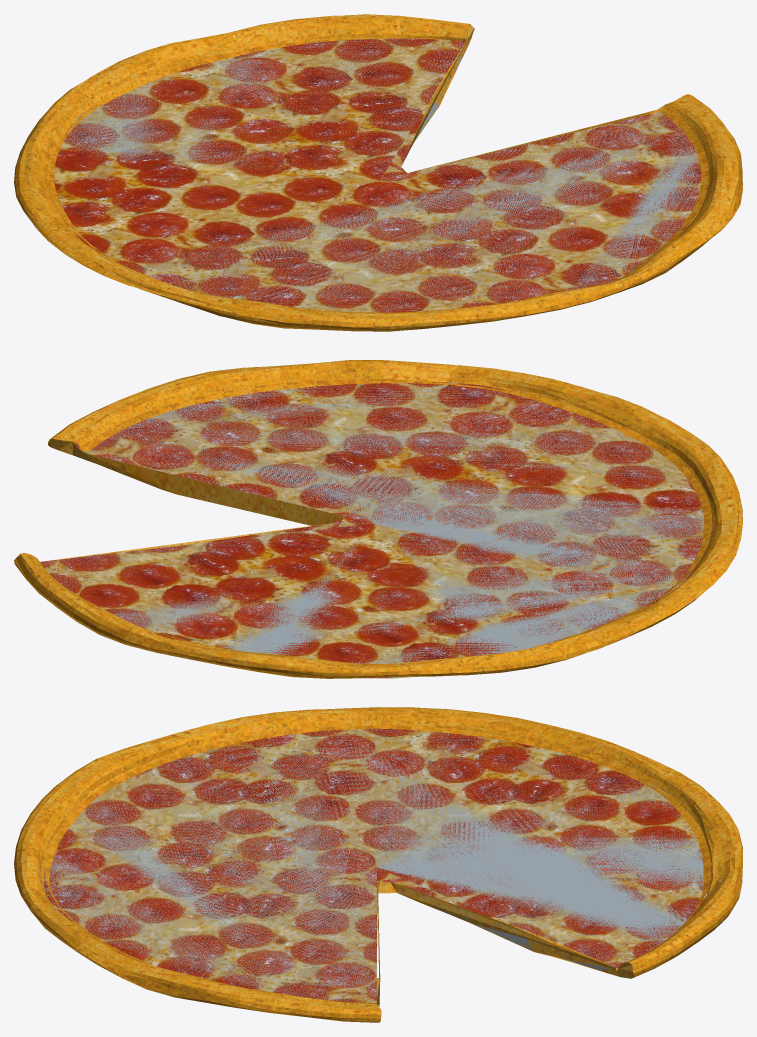
File: FUCKAPIZZA.dae
3 views of the same model, one above another, from view 1: azimuth 30°, elevation 25°; view 2: azimuth 150°, elevation 25°; view 3: azimuth 270°, elevation 25° (orthographic). The views are drawn at different scales.
Visible parts, largest first — view 1: skp95A7 (×2), SketchUp (×2); view 2: skp95A7 (×2), SketchUp; view 3: skp95A7 (×2), SketchUp (×2).
Boxes of the visible parts, x1,y1,x2,y2 form: skp95A7 (×2): [14, 14, 742, 331]; SketchUp (×2): [389, 24, 474, 166]; skp95A7 (×2): [14, 360, 742, 678]; SketchUp: [43, 523, 327, 561]; skp95A7 (×2): [14, 707, 742, 1022]; SketchUp (×2): [378, 878, 634, 978].
Bounding box in the file's own units: 272 × 270 × 14.06.
3 materials, 2 textured.
